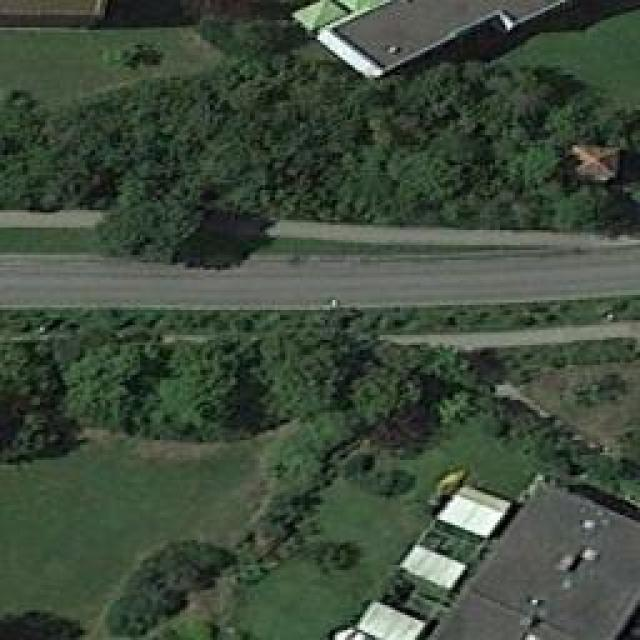City: (4, 3, 640, 640)
Highway: (4, 231, 640, 324)
